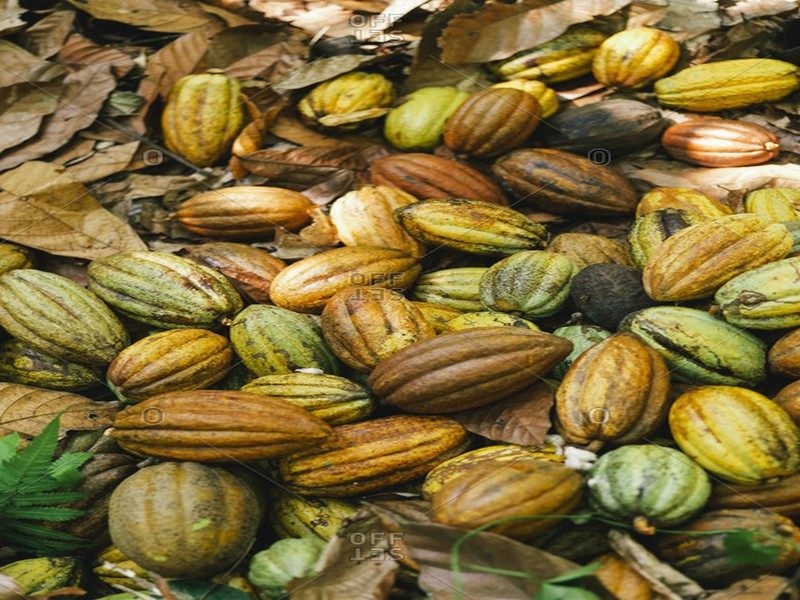Cacaopod: (371, 324, 571, 416)
